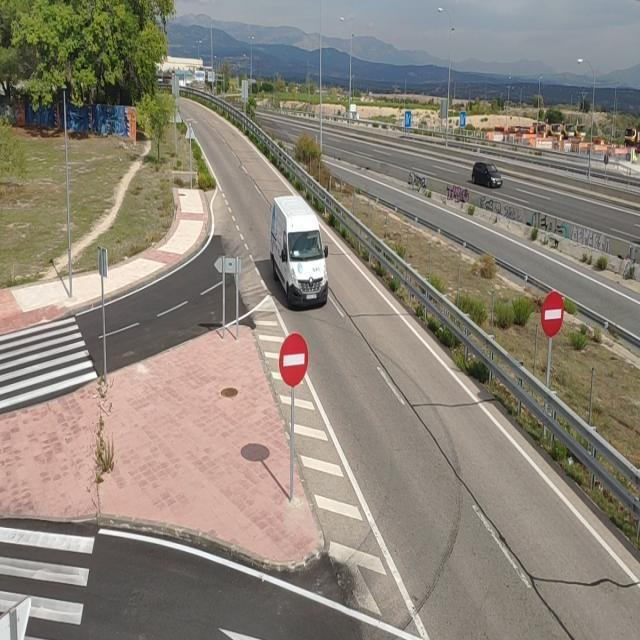Car: (471, 160, 502, 189)
Truck: (624, 127, 640, 150), (561, 122, 577, 137), (575, 122, 587, 140), (548, 122, 561, 138)
Van: (268, 192, 330, 312)
